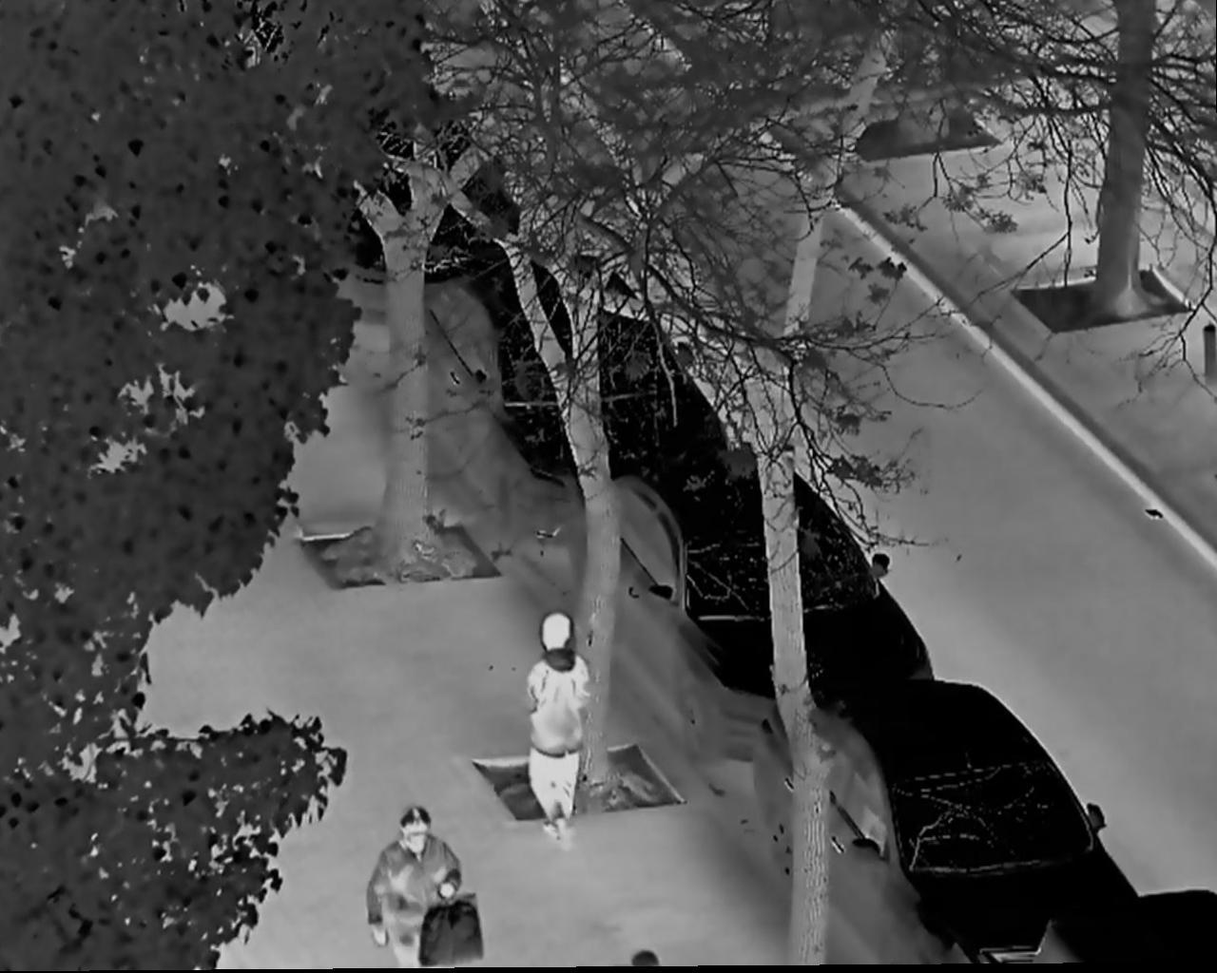person: (367, 808, 481, 970), (527, 611, 589, 846)
